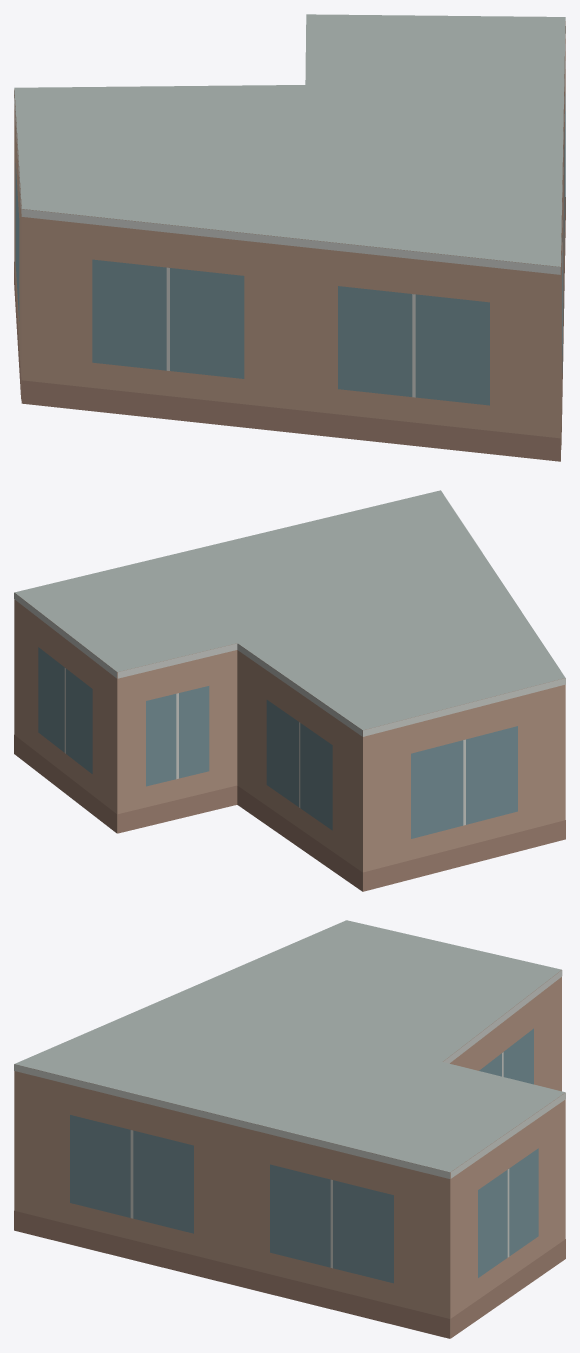
The model's file is survey-upis-32885660.glb.
The picture shows the model from 3 angles, top to bottom: view 1: azimuth 30°, elevation 25°; view 2: azimuth 150°, elevation 25°; view 3: azimuth 270°, elevation 25°; orthographic projection. The views are drawn at different scales.
Parts seen in each view (by area): view 1: survey-upis-32885660.tmp; view 2: survey-upis-32885660.tmp; view 3: survey-upis-32885660.tmp.
Part boxes in pixels (x1,y1,x2,y2): survey-upis-32885660.tmp: [14, 14, 565, 461]; survey-upis-32885660.tmp: [14, 490, 565, 891]; survey-upis-32885660.tmp: [14, 920, 565, 1338].
Size of the model in its own units: 9.92 by 3.05 by 9.17.
